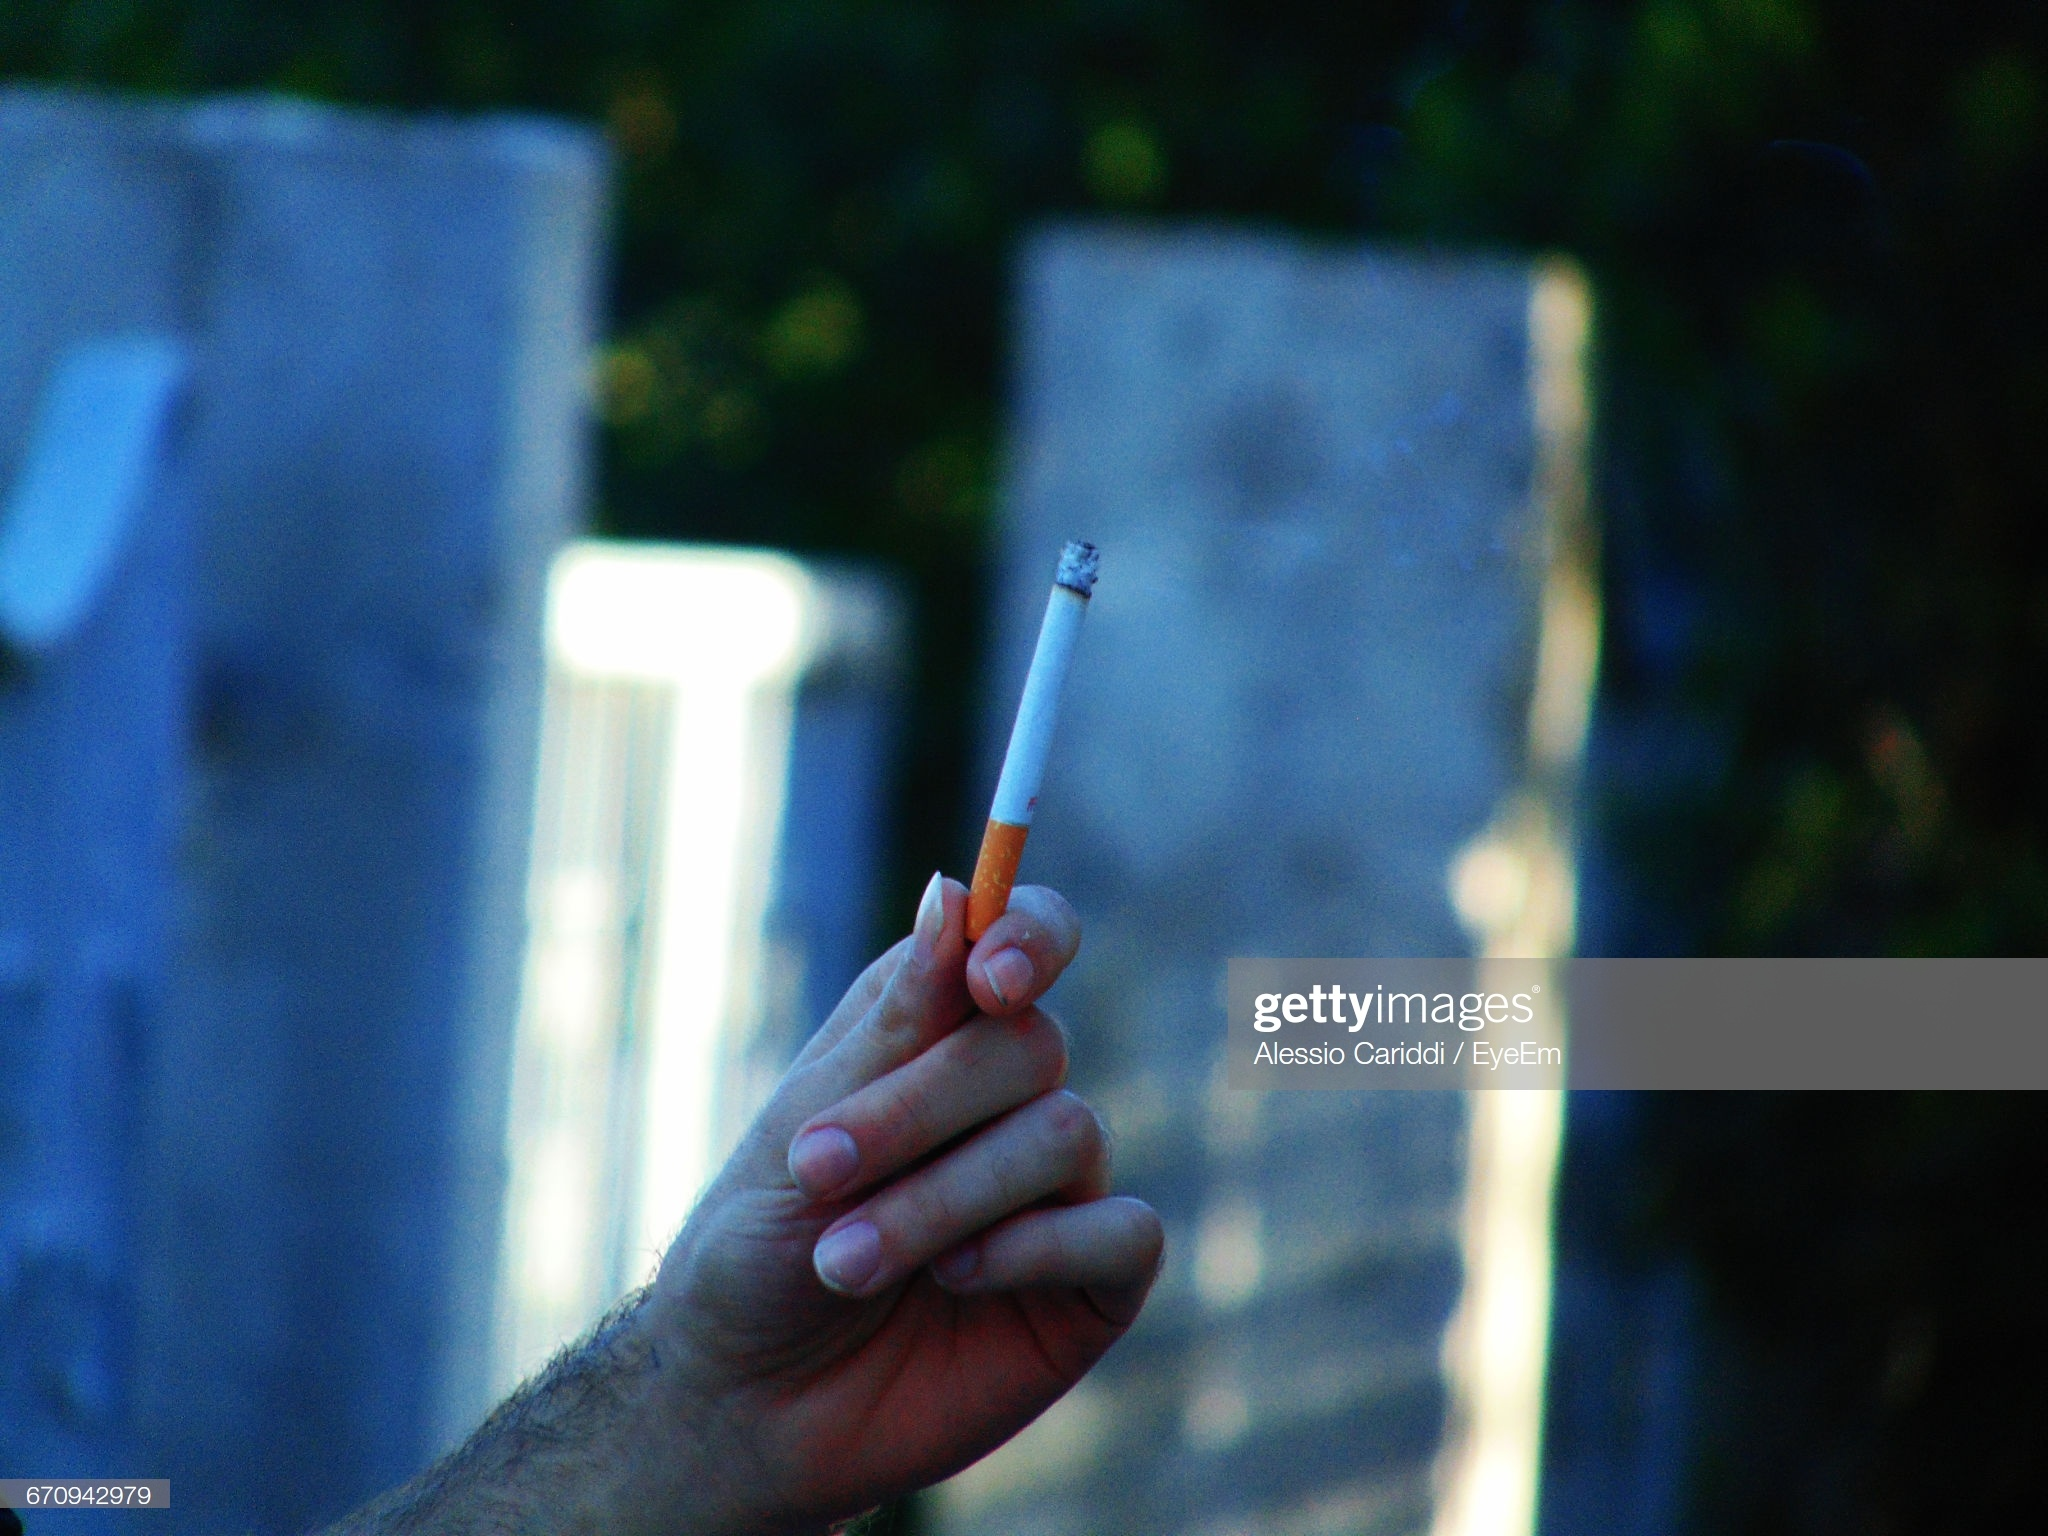sigaretta: (955, 544, 1105, 950)
